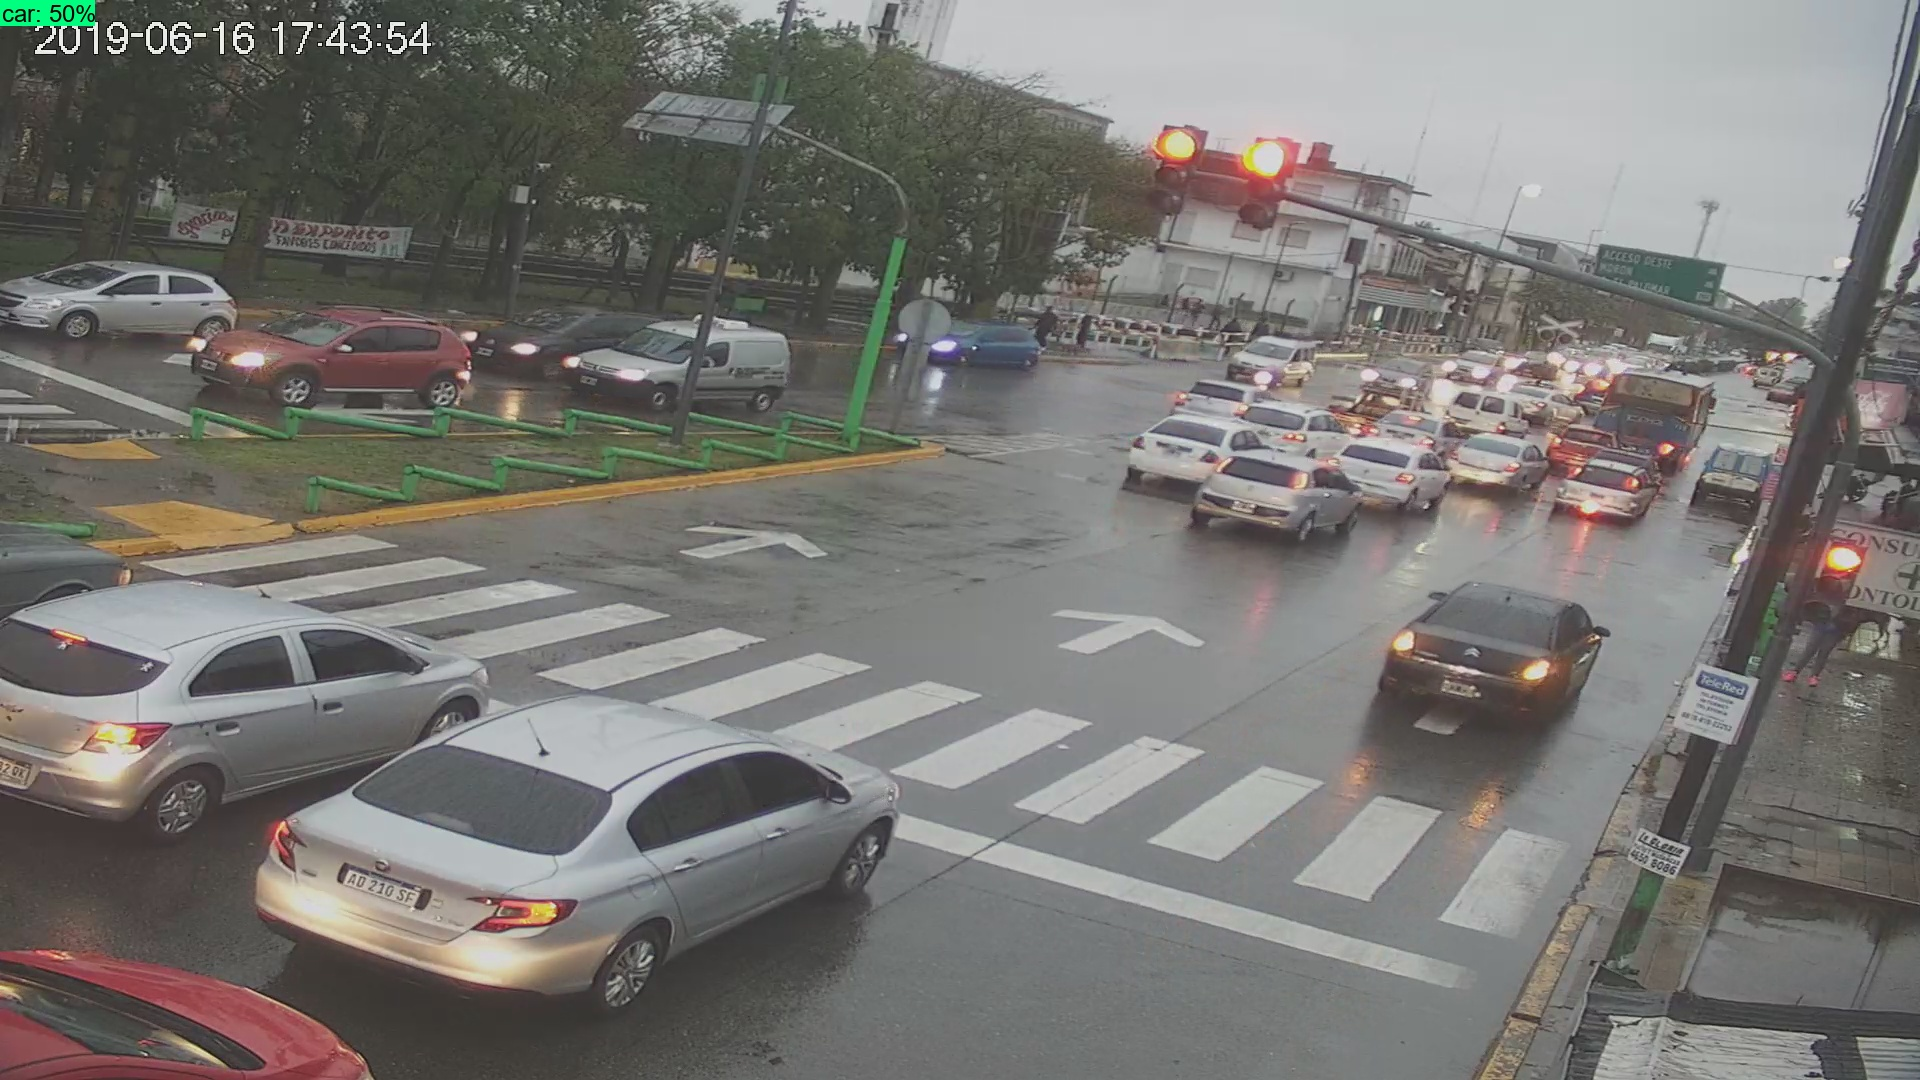car: (255, 688, 897, 1005), (7, 559, 491, 855), (4, 914, 373, 1080), (1375, 571, 1611, 727), (182, 305, 472, 409), (3, 236, 237, 355), (570, 320, 785, 415), (1191, 436, 1365, 541), (1116, 411, 1254, 498), (905, 311, 1047, 375), (1559, 454, 1658, 527), (1693, 439, 1774, 514), (1222, 336, 1316, 386)
